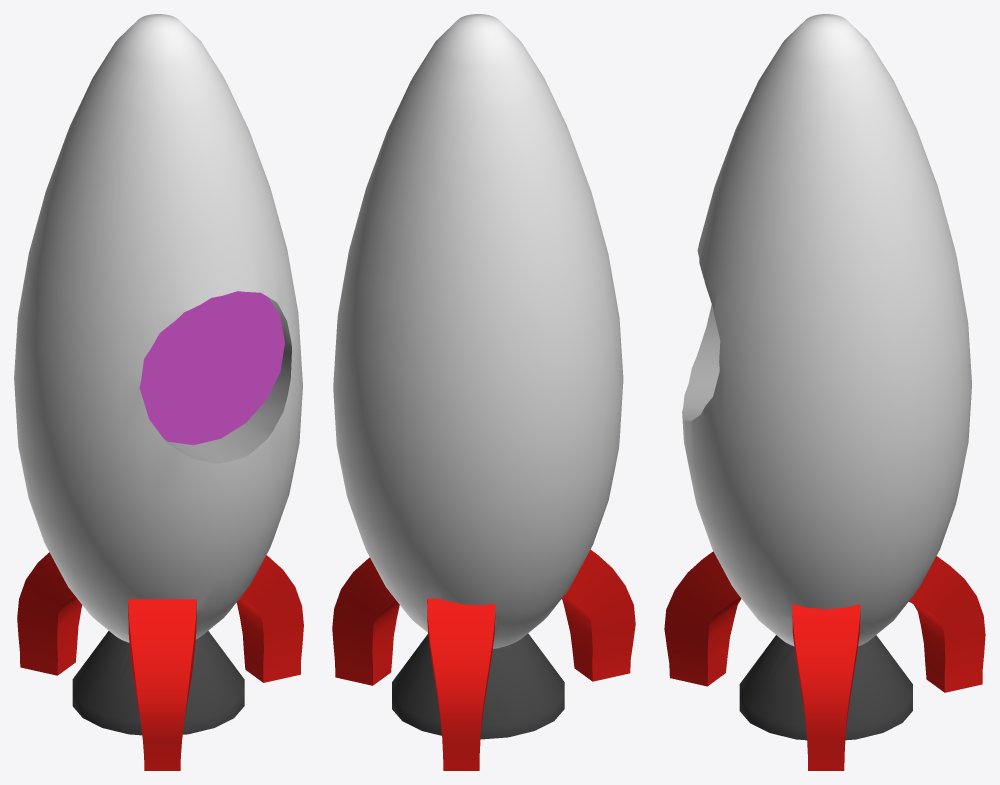
Rendered from FBX_rocket.FBX.
The picture shows the model from 3 angles, left to right: view 1: azimuth 30°, elevation 25°; view 2: azimuth 150°, elevation 25°; view 3: azimuth 270°, elevation 25°; orthographic projection.
Parts seen in each view (by area): view 1: Sphere001; view 2: Sphere001; view 3: Sphere001.
Part boxes in pixels (x1,y1,x2,y2): Sphere001: [14, 14, 303, 770]; Sphere001: [332, 14, 635, 770]; Sphere001: [664, 14, 985, 770].
Bounding box in the file's own units: 520 × 1298 × 550.
1 material, 1 textured.
